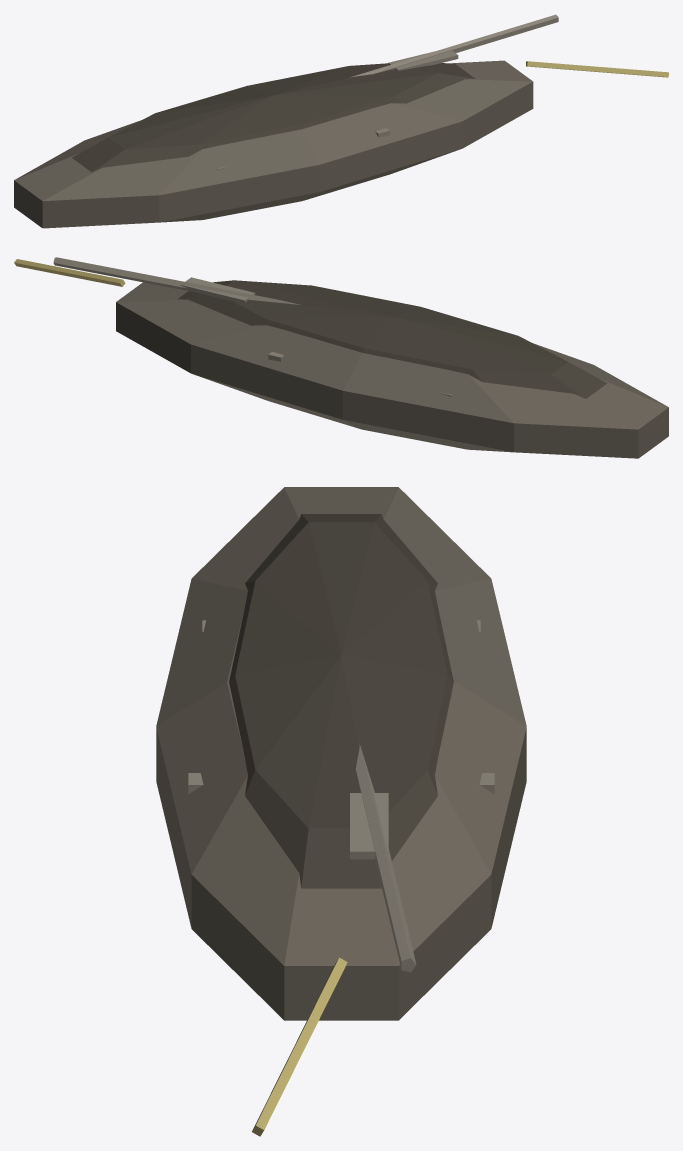
The model's file is harbor_boat.glb.
The picture shows the model from 3 angles, top to bottom: view 1: azimuth 30°, elevation 25°; view 2: azimuth 150°, elevation 25°; view 3: azimuth 270°, elevation 25°; orthographic projection. The views are drawn at different scales.
Parts seen in each view (by area): view 1: harbor_boat; view 2: harbor_boat; view 3: harbor_boat.
Boxes of the visible parts, x1,y1,x2,y2 form: harbor_boat: (14, 14, 668, 228); harbor_boat: (14, 257, 668, 458); harbor_boat: (156, 487, 526, 1136).
Size of the model in its own units: 5.14 by 0.74 by 1.33.
